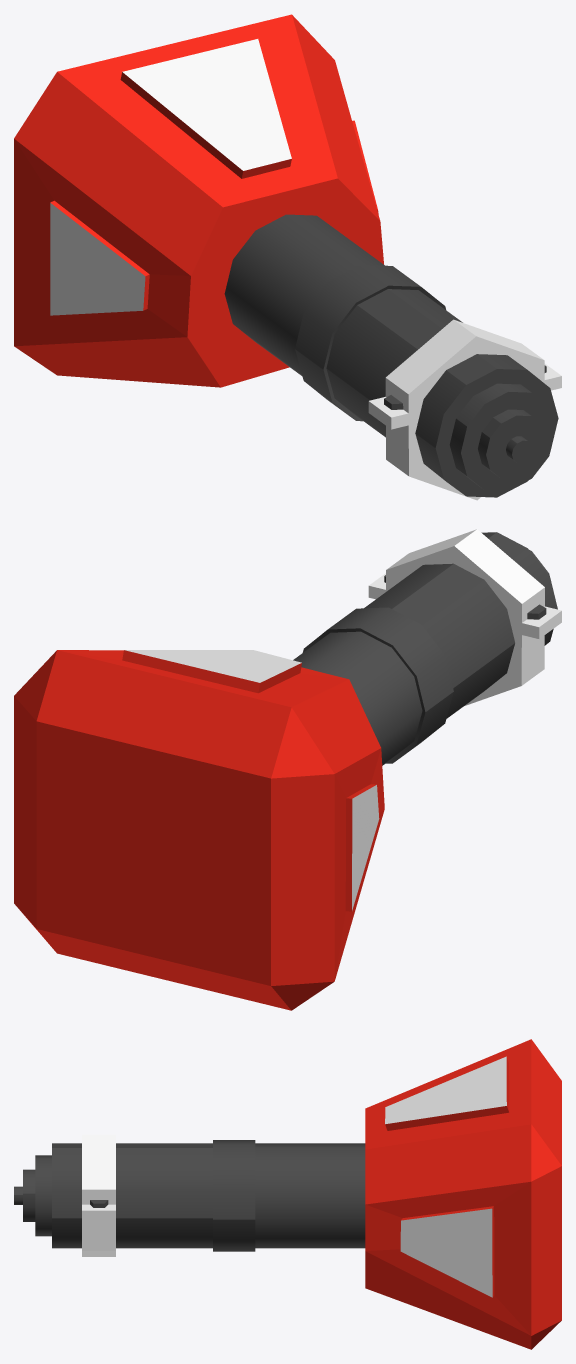
Rendered from lazer.fbx.
The picture shows the model from 3 angles, top to bottom: view 1: azimuth 30°, elevation 25°; view 2: azimuth 150°, elevation 25°; view 3: azimuth 270°, elevation 25°; orthographic projection. The views are drawn at different scales.
Visible parts, largest first — view 1: opora red, lazer gun; view 2: opora red, lazer gun; view 3: opora red, lazer gun.
Boxes of the visible parts, x1=… form: opora red: x1=14, y1=14, x2=383, y2=387; lazer gun: x1=224, y1=214, x2=561, y2=500; opora red: x1=14, y1=650, x2=384, y2=1010; lazer gun: x1=293, y1=529, x2=561, y2=765; opora red: x1=365, y1=1039, x2=561, y2=1349; lazer gun: x1=14, y1=1134, x2=365, y2=1256.
Size of the model in its own units: 135 by 122 by 268.
